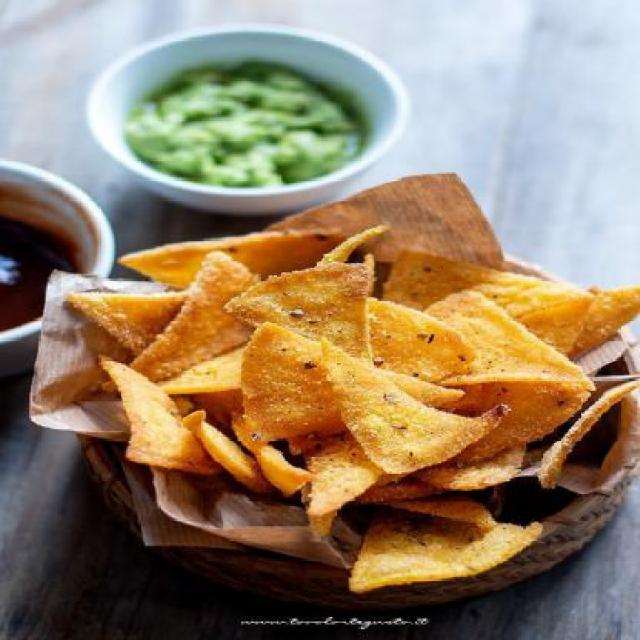Merendine: (62, 204, 636, 590)
